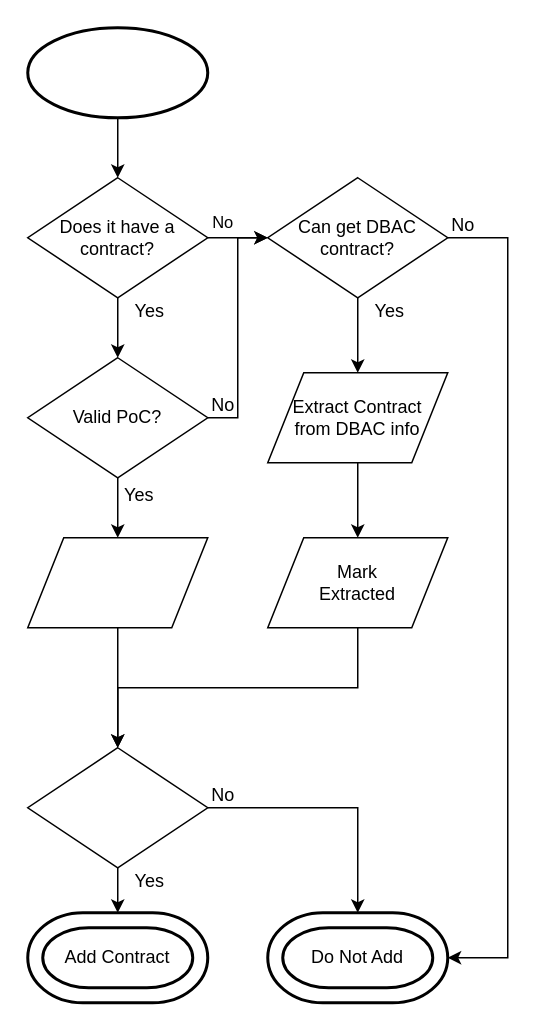
Image size: 546x1029. Some labels were removed from this diagram. The shapes that lost their labels are listed below. From the top down, each one's centre as x and y in pixels, then its label:
point 117,72: Device requests to join network
point 117,582: Mark Verified
point 117,807: Policy compliant?
